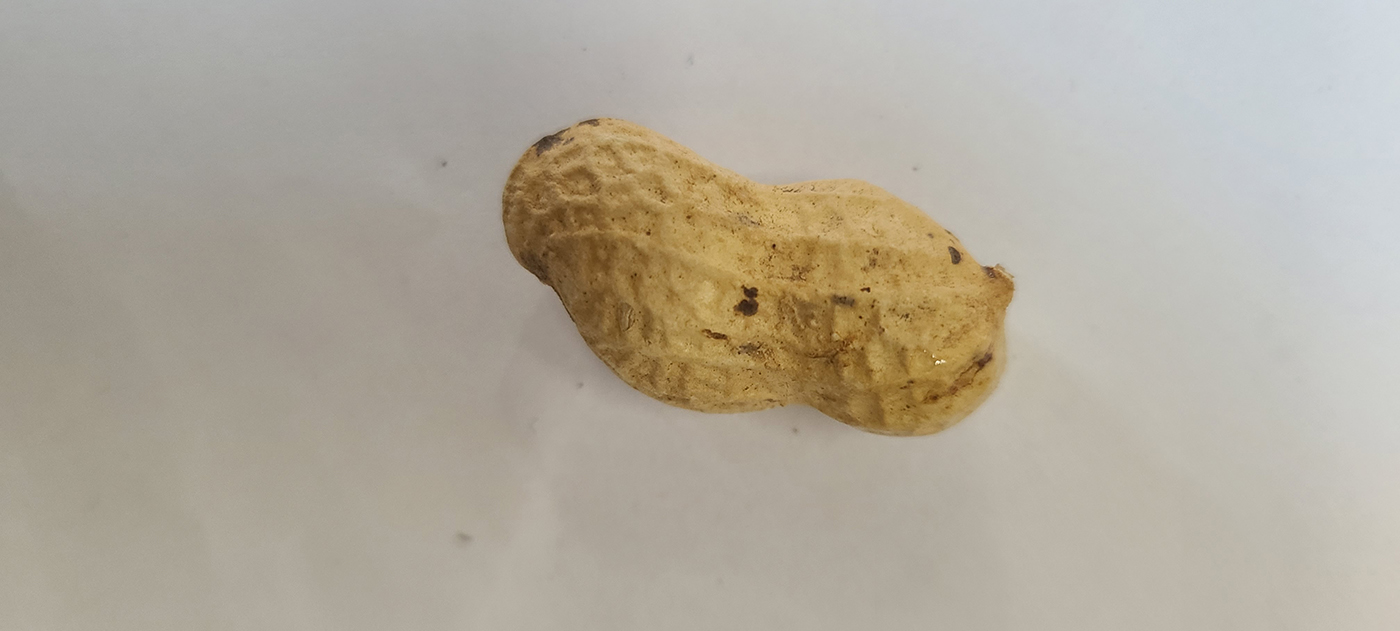h: (498, 113, 1014, 435)
